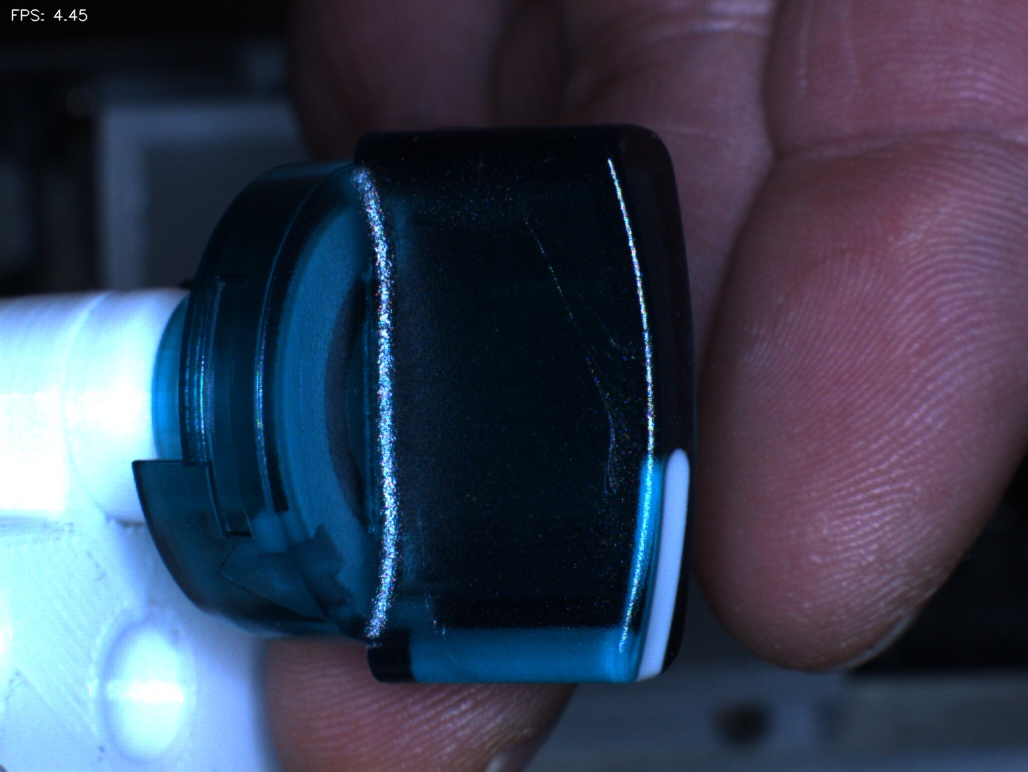Givrage: (523, 215, 648, 505)
